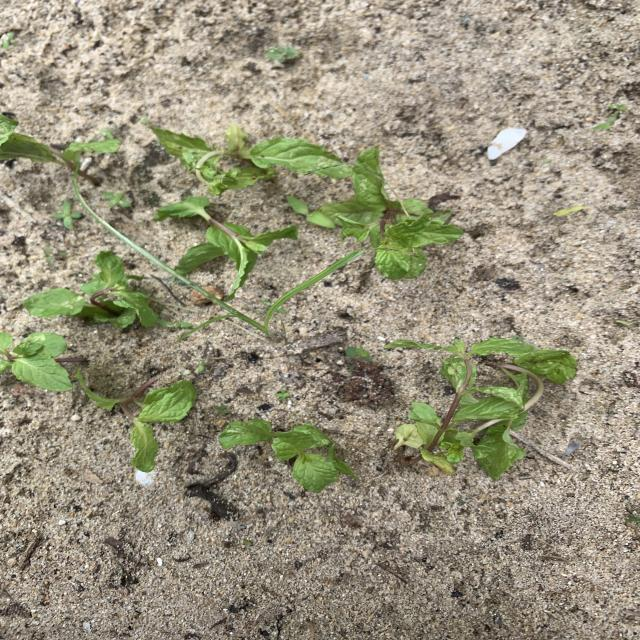crop: (389, 336, 575, 479), (320, 147, 463, 279), (149, 125, 350, 196), (154, 196, 295, 289), (80, 380, 194, 471), (25, 251, 157, 327), (219, 420, 355, 491), (1, 114, 117, 179), (0, 332, 71, 390)
weed: (73, 180, 364, 339), (286, 195, 335, 229), (54, 201, 79, 227), (268, 46, 298, 62), (103, 191, 131, 208), (591, 113, 618, 130), (45, 248, 67, 262), (159, 320, 192, 329), (346, 347, 369, 359), (555, 207, 582, 215), (1, 32, 14, 48), (276, 390, 290, 399), (615, 320, 636, 326), (215, 405, 227, 413), (198, 362, 204, 371)
